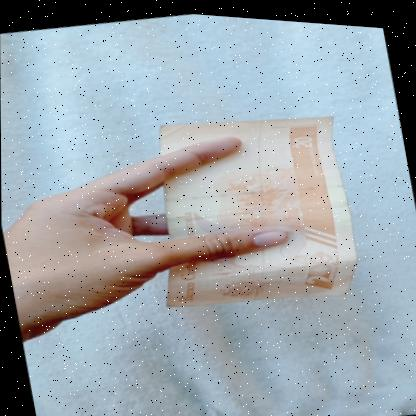twenty-back-vef: (133, 91, 365, 323)
